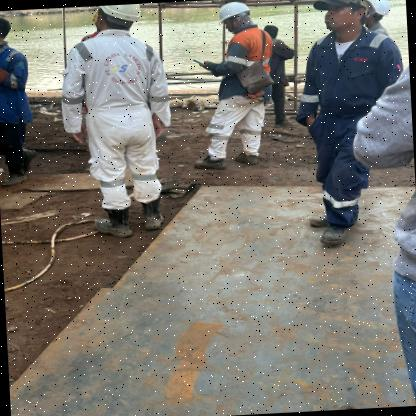bota: (91, 203, 136, 240), (138, 194, 168, 231), (190, 154, 230, 173), (318, 222, 352, 244), (0, 159, 27, 185), (14, 144, 40, 166), (232, 150, 258, 165), (307, 211, 330, 226), (274, 116, 292, 128)
